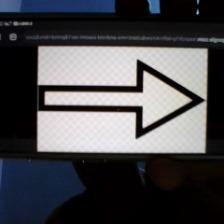right: (36, 59, 205, 138)
